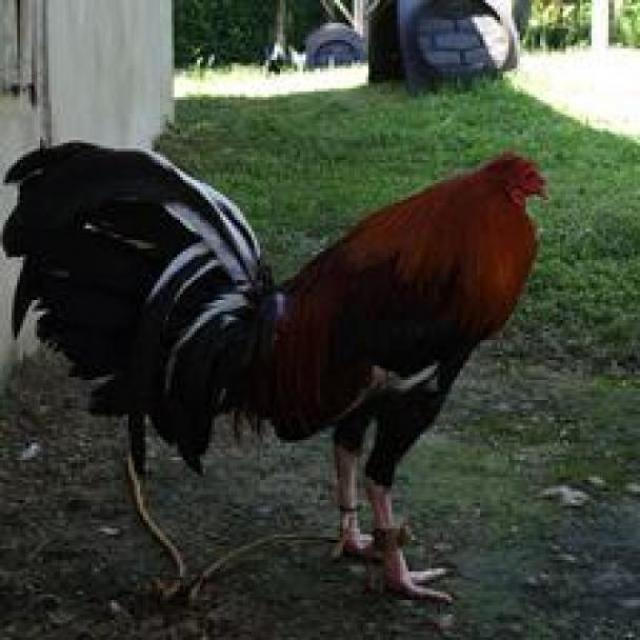Chicken: (9, 116, 596, 625)
